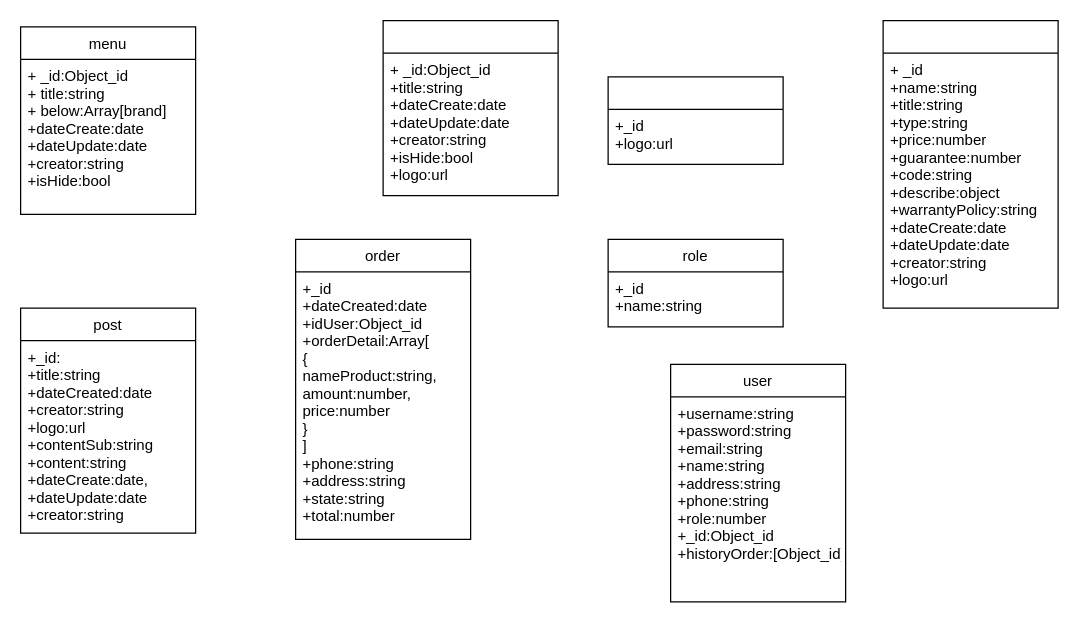
Some shapes in this 1079 by 623 pixel diagram are drawn without their labels. The shapes that lost their labels are listed below. From the top down, each one's box as (x1, y1, x2, y2) in pixels, then its label:
(382, 19, 558, 196): brand
(607, 76, 783, 164): slider
(882, 19, 1058, 308): Product
